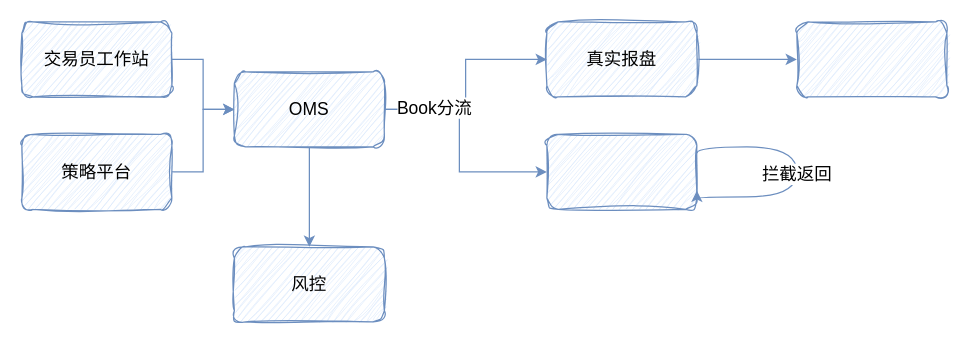
Some shapes in this 969 by 344 pixel diagram are drawn without their labels. Here are the shapes that lost their labels. From the top down, the centre of each, then its label:
At point (871, 59): "柜台/交易所".
At point (621, 171): "模拟报盘".
